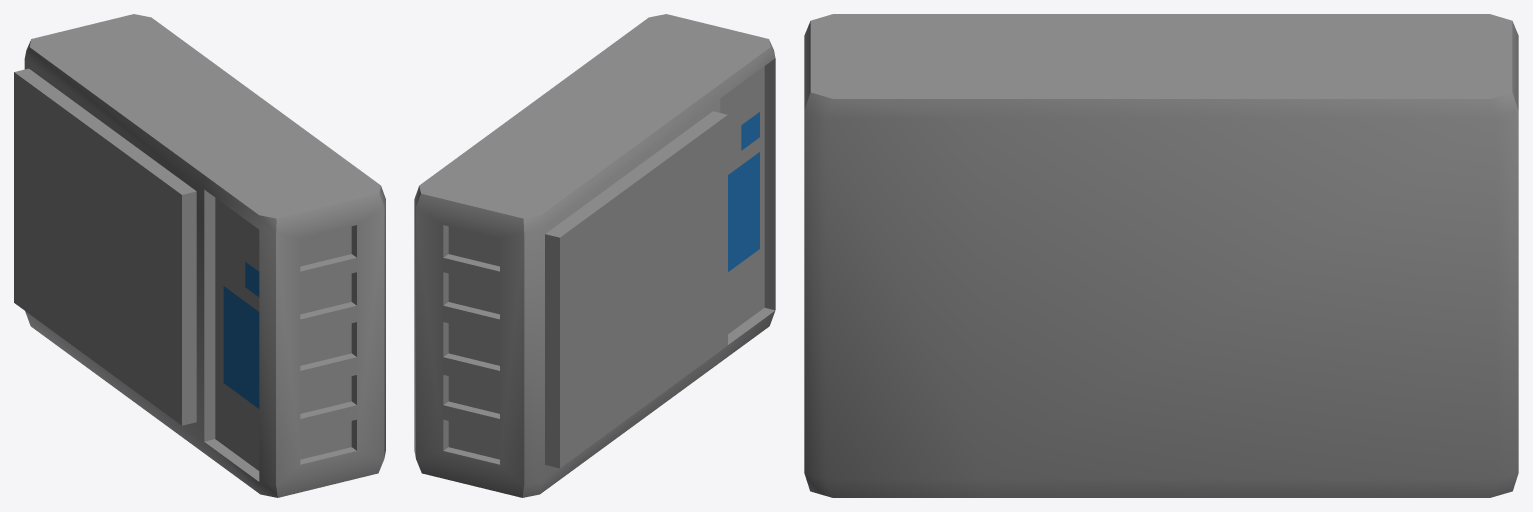
The model's file is vent_1.fbx.
3 views of the same model, side by side, from view 1: azimuth 30°, elevation 25°; view 2: azimuth 150°, elevation 25°; view 3: azimuth 270°, elevation 25° (orthographic). The views are drawn at different scales.
Parts seen in each view (by area): view 1: vent_01; view 2: vent_01; view 3: vent_01.
Part boxes in pixels (left/top/right/bottom): vent_01: left=14, top=14, right=385, bottom=497; vent_01: left=414, top=14, right=775, bottom=497; vent_01: left=804, top=14, right=1518, bottom=497.
Bounding box in the file's own units: 0.3772 × 0.7126 × 1.15.
